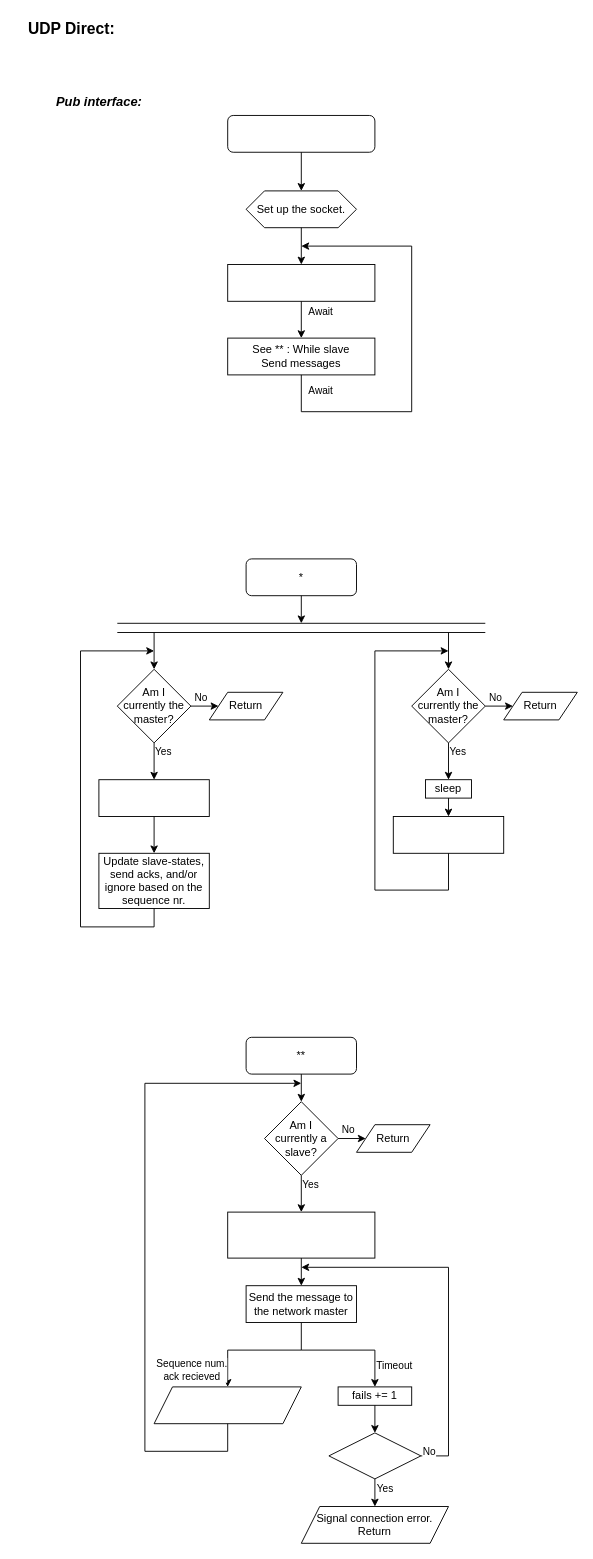
Some shapes in this 593 by 1559 pixel diagram are drawn without their labels. Each missing label, with the centre of its shape:
"Create message to send based on the latest WorldView and sequence n." goes at pixel 301 1234.
"fails > retries" goes at pixel 374 1455.
"Forward acked data to worldview updater" goes at pixel 227 1405.
"Recieve msg from slave" goes at pixel 153 797.
"Remove inactive slave-states. Signal the removal." goes at pixel 448 834.
"See * : While master Handle slave messages" goes at pixel 301 282.
"start_direct_udp_network" goes at pixel 301 133.
